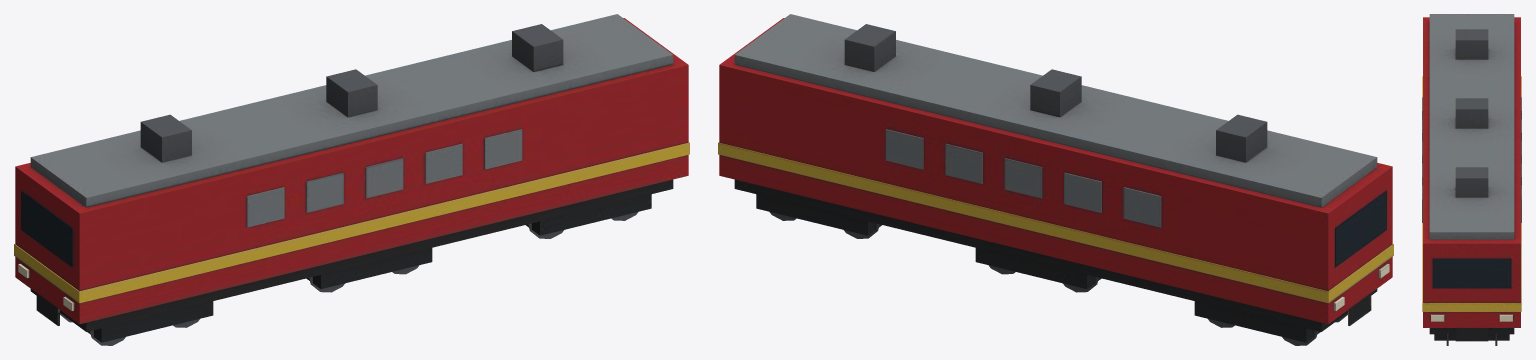
The model's file is towar_lok.glb.
The picture shows the model from 3 angles, left to right: view 1: azimuth 30°, elevation 25°; view 2: azimuth 150°, elevation 25°; view 3: azimuth 270°, elevation 25°; orthographic projection. The views are drawn at different scales.
Parts seen in each view (by area): view 1: towar_lok; view 2: towar_lok; view 3: towar_lok.
Part boxes in pixels (x1,y1,x2,y2): towar_lok: (14,14,689,345); towar_lok: (718,14,1393,345); towar_lok: (1422,14,1521,345).
Size of the model in its own units: 16.52 by 4.9 by 3.06.
1 material, 1 textured.
